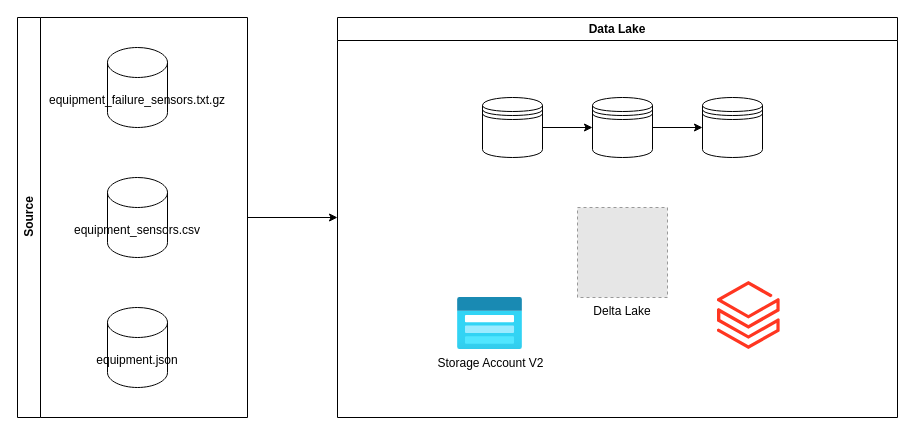
The diagram is 915 pixels wide and 435 high, and some of its shapes have lost their labels. Grey dashed boxes stand in for pictures. Each missing label, with the centre of its shape:
"Azure Databricks" belongs at [748,315].
"Prepared" belongs at [732,127].
"Raw" belongs at [622,127].
"Staging" belongs at [512,127].
